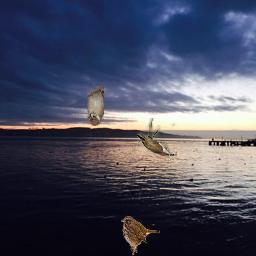Cuckoo: (137, 118, 177, 156)
Sparrow: (121, 216, 160, 256), (87, 86, 104, 126)
